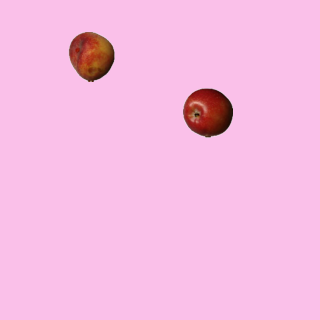Apple Braeburn: (182, 87, 232, 137)
Peach: (66, 31, 116, 81)
